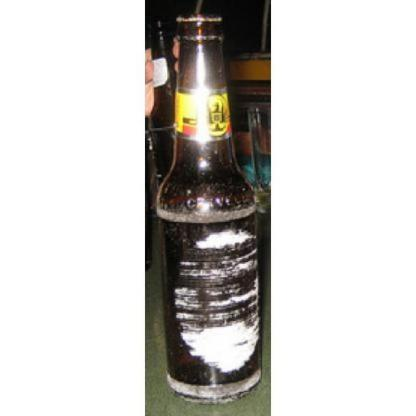Can: (156, 16, 262, 403)
